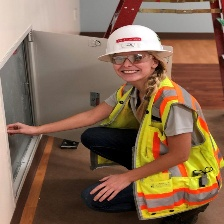helmet: (92, 26, 181, 65)
person: (76, 20, 224, 214)
vest: (99, 75, 219, 219)
